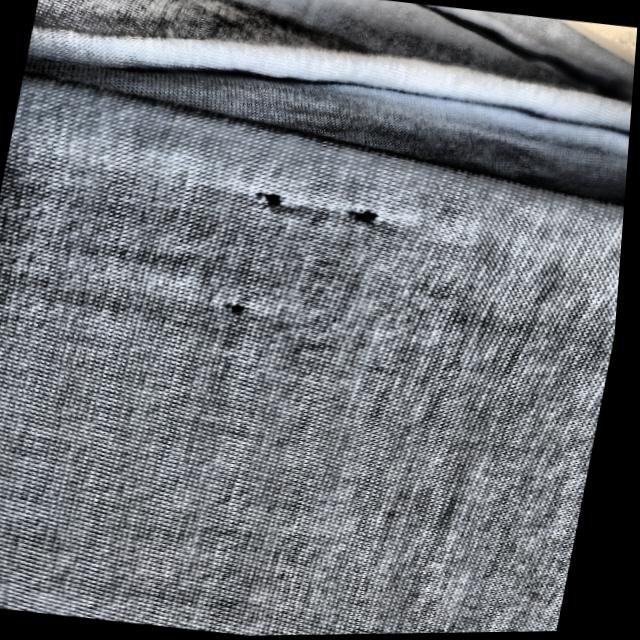Hole: (336, 197, 397, 238), (246, 180, 298, 219), (217, 290, 267, 325)
